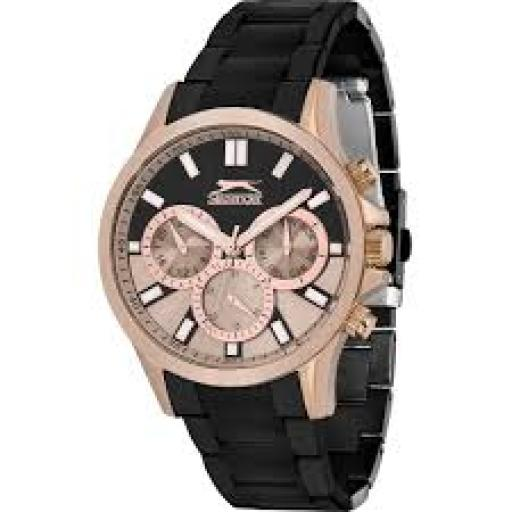KolSaati: (82, 4, 449, 512)
